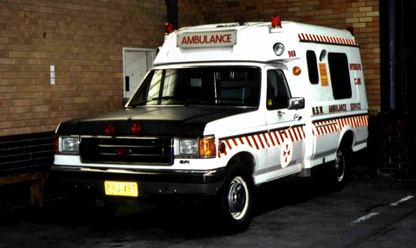ambulance: (48, 14, 368, 231)
